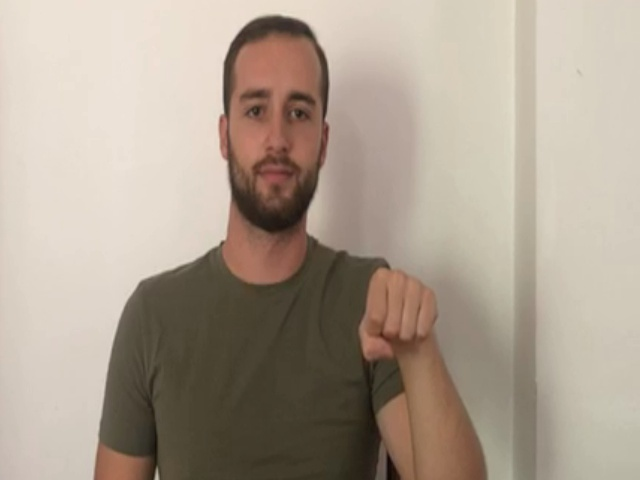Da: (355, 264, 440, 363)
